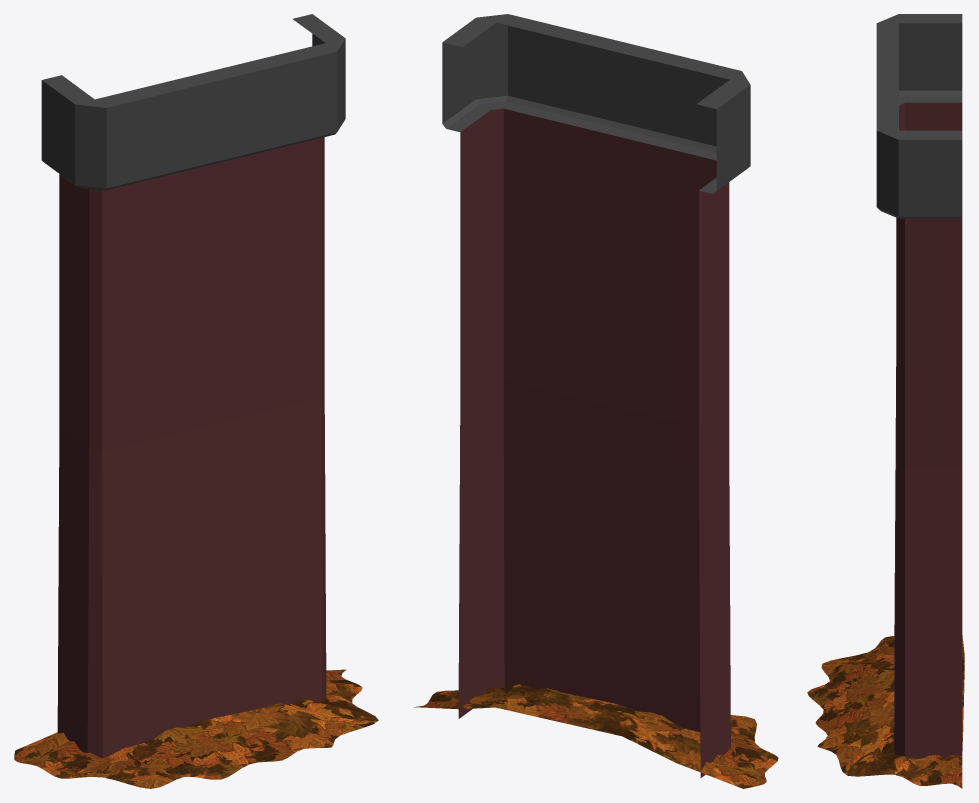
The model's file is Y_ExWallBase.fbx.
3 views of the same model, side by side, from view 1: azimuth 30°, elevation 25°; view 2: azimuth 150°, elevation 25°; view 3: azimuth 270°, elevation 25° (orthographic). The views are drawn at different scales.
Visible parts, largest first — view 1: P_Doorway.030; view 2: P_Doorway.030; view 3: P_Doorway.030.
Boxes of the visible parts, left/top/right/bottom form: P_Doorway.030: left=14, top=14, right=378, bottom=788; P_Doorway.030: left=413, top=14, right=778, bottom=788; P_Doorway.030: left=807, top=14, right=964, bottom=788.
Bounding box in the file's own units: 593 × 1100 × 248.
